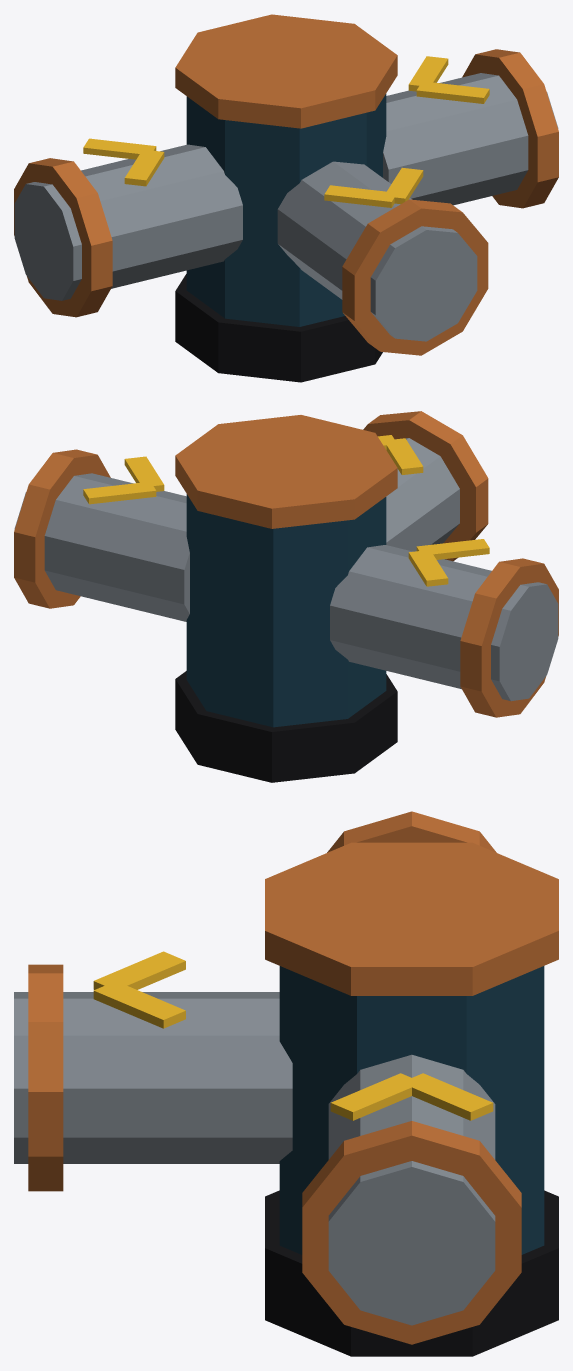
Rendered from pipe_sides.obj.
The picture shows the model from 3 angles, top to bottom: view 1: azimuth 30°, elevation 25°; view 2: azimuth 150°, elevation 25°; view 3: azimuth 270°, elevation 25°; orthographic projection. The views are drawn at different scales.
Visible parts, largest first — view 1: Pipe, Arrows; view 2: Pipe, Arrows; view 3: Pipe, Arrows.
Boxes of the visible parts, x1=… form: Pipe: x1=14, y1=14, x2=558, y2=382; Arrows: x1=83, y1=56, x2=489, y2=207; Pipe: x1=14, y1=411, x2=558, y2=782; Arrows: x1=83, y1=435, x2=489, y2=586; Pipe: x1=14, y1=811, x2=558, y2=1356; Arrows: x1=93, y1=951, x2=493, y2=1120.
Size of the model in its own units: 1 by 0.54 by 0.6848.
